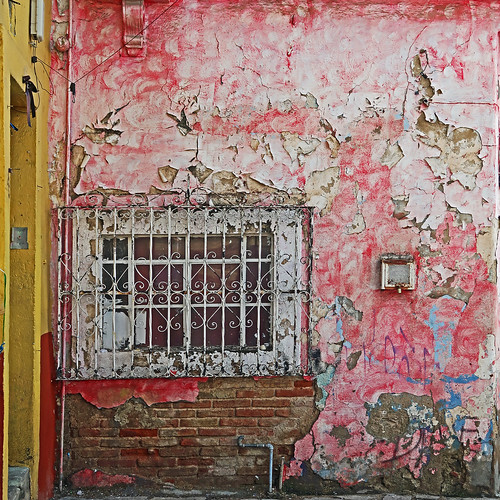wall: (54, 1, 494, 486)
window: (60, 212, 311, 376)
